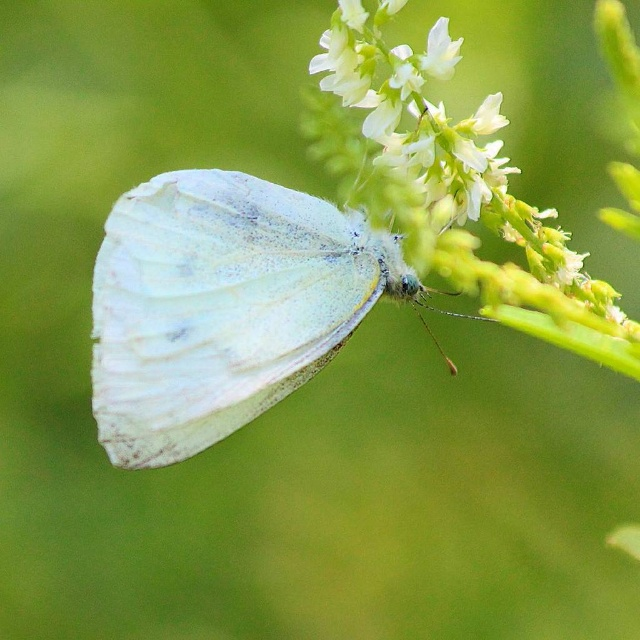Butterfly: (89, 167, 502, 472)
